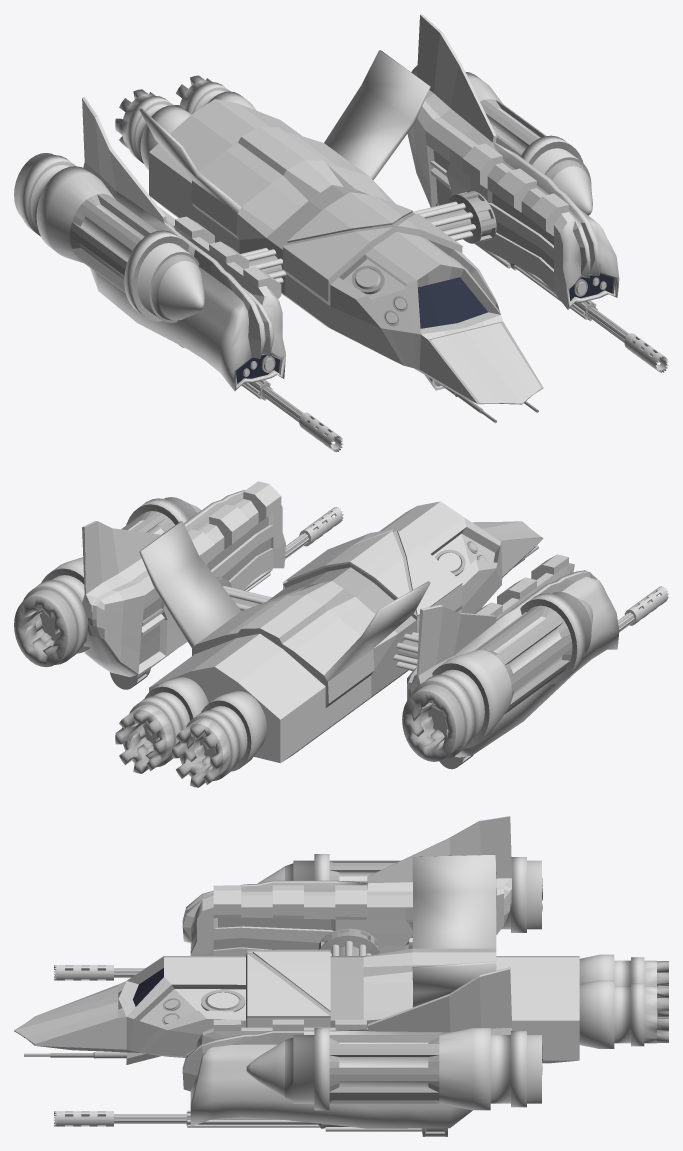
File: Orion1.fbx
The picture shows the model from 3 angles, top to bottom: view 1: azimuth 30°, elevation 25°; view 2: azimuth 150°, elevation 25°; view 3: azimuth 270°, elevation 25°; orthographic projection. The views are drawn at different scales.
Visible parts, largest first — view 1: Cube; view 2: Cube; view 3: Cube.
Boxes of the visible parts, left/top/right/bottom form: Cube: left=14, top=14, right=668, bottom=452; Cube: left=14, top=481, right=668, bottom=787; Cube: left=14, top=816, right=668, bottom=1136.
Bounding box in the file's own units: 2698 × 1057 × 3674.
